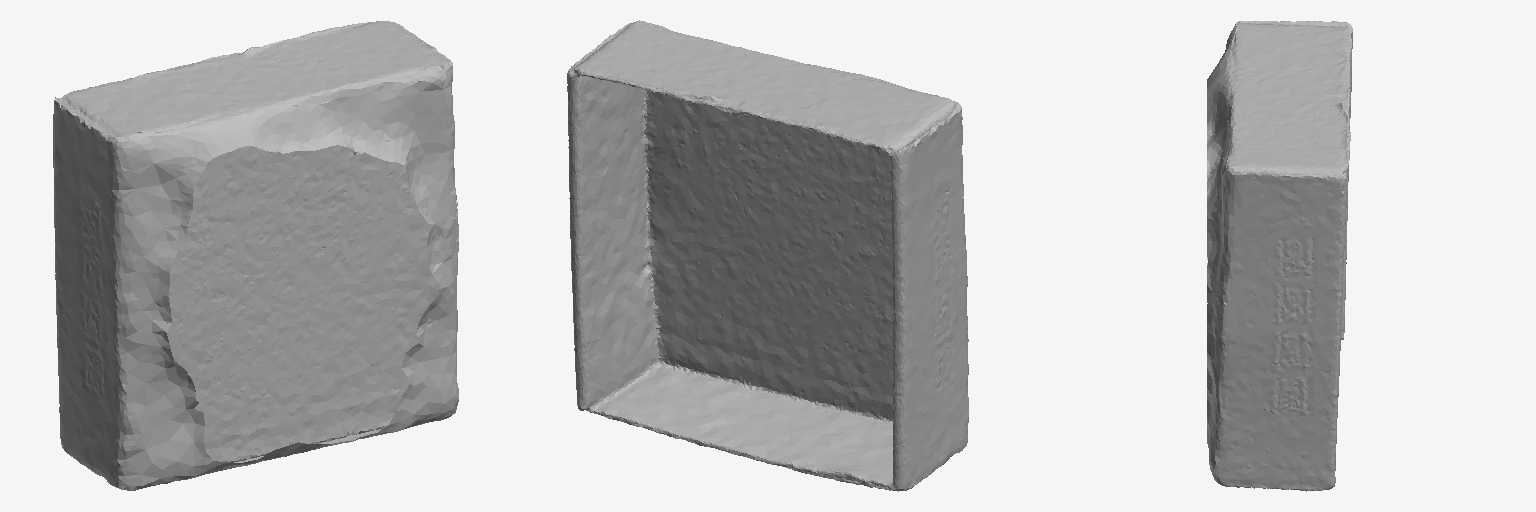
robot.urdf — root:
<robot name="root">
  <link name="link_001">
    <visual>
      <origin xyz="0 0 0" rpy="0 0 0"/>
      <geometry>
        <mesh filename="box.obj" scale="1.0000E+00 1.0000E+00 1.0000E+00"/>
      </geometry>
      <material name="">
        <color rgba="7.50E-01 7.50E-01 7.50E-01 1"/>
      </material>
    </visual>
    <collision>
      <origin xyz="0 0 0" rpy="0 0 0"/>
      <geometry>
        <mesh filename="box.obj" scale="1.0000E+00 1.0000E+00 1.0000E+00"/>
      </geometry>
    </collision>
  </link>
</robot>

--- Render facts (derived) ---
Views: 3 orthographic renders of the robot side by side, from view 1: azimuth 30°, elevation 25°; view 2: azimuth 150°, elevation 25°; view 3: azimuth 270°, elevation 25°.
Robot: root — 1 links, 0 joints (none); root link link_001; default pose: all joints at 0.
Visible links, largest first — view 1: link_001; view 2: link_001; view 3: link_001.
Link boxes in pixels (left/top/right/bottom): link_001: left=53, top=21, right=458, bottom=490; link_001: left=567, top=20, right=968, bottom=491; link_001: left=1207, top=21, right=1352, bottom=491.
Size in the robot's own frame: 0.156 by 0.0633 by 0.1572 metres.
1 mesh visuals loaded from 1 distinct referenced files (1 OBJ).
